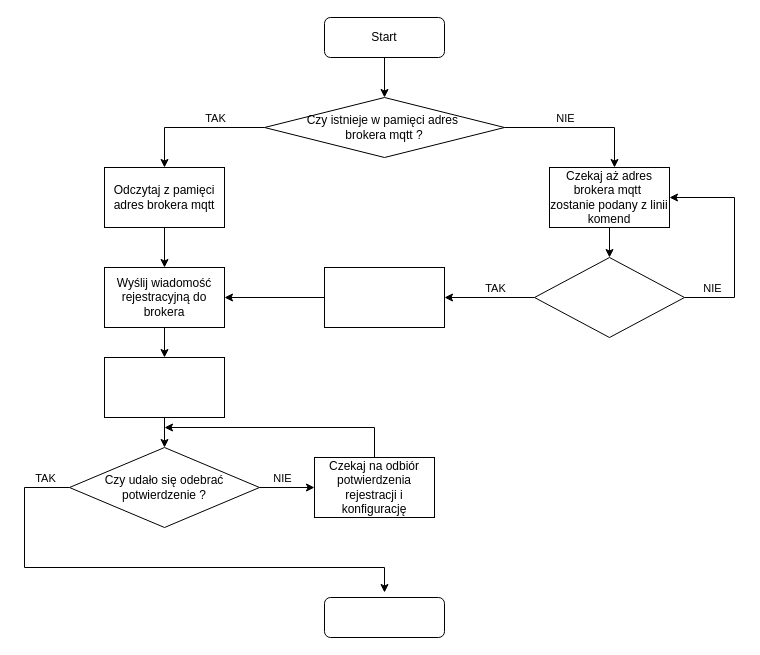
Image size: 760x655. Some labels were removed from this diagram. The shapes that lost their labels are listed below. From the top down, each one's centre as x and y in pixels, then its label:
(x=384, y=297): Zapisz adres brokera mqtt do pamięci
(x=609, y=297): Czy adres brokera mqtt został podany ?
(x=164, y=387): Odbierz potwierdzenie rejestracji
(x=384, y=617): Koniec
